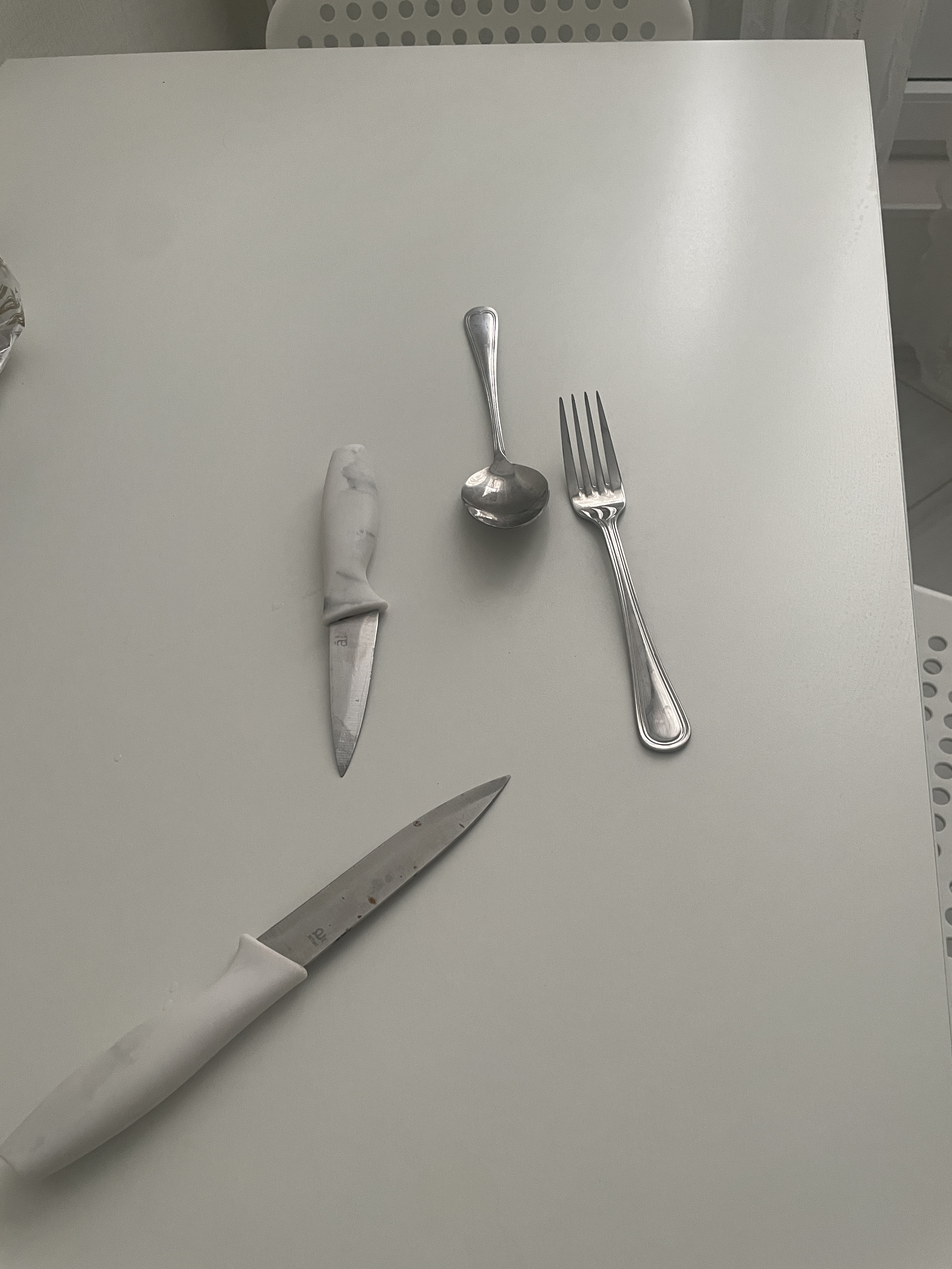knife: (0, 776, 509, 1178), (322, 444, 387, 776)
spoon: (461, 307, 549, 528)
